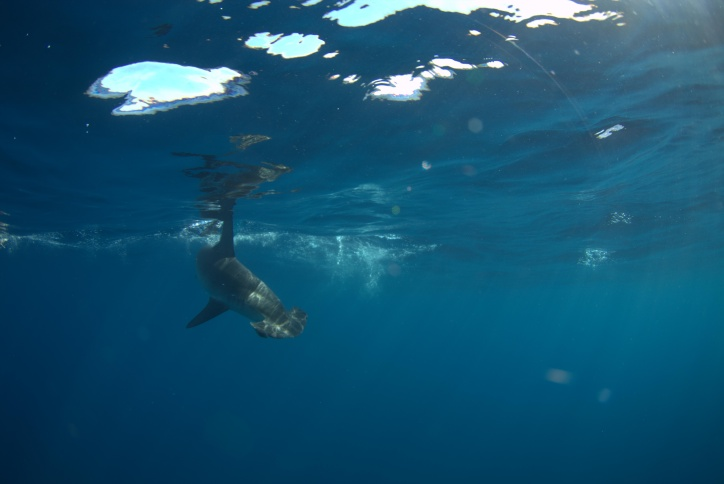Hammer: (105, 196, 366, 355)
